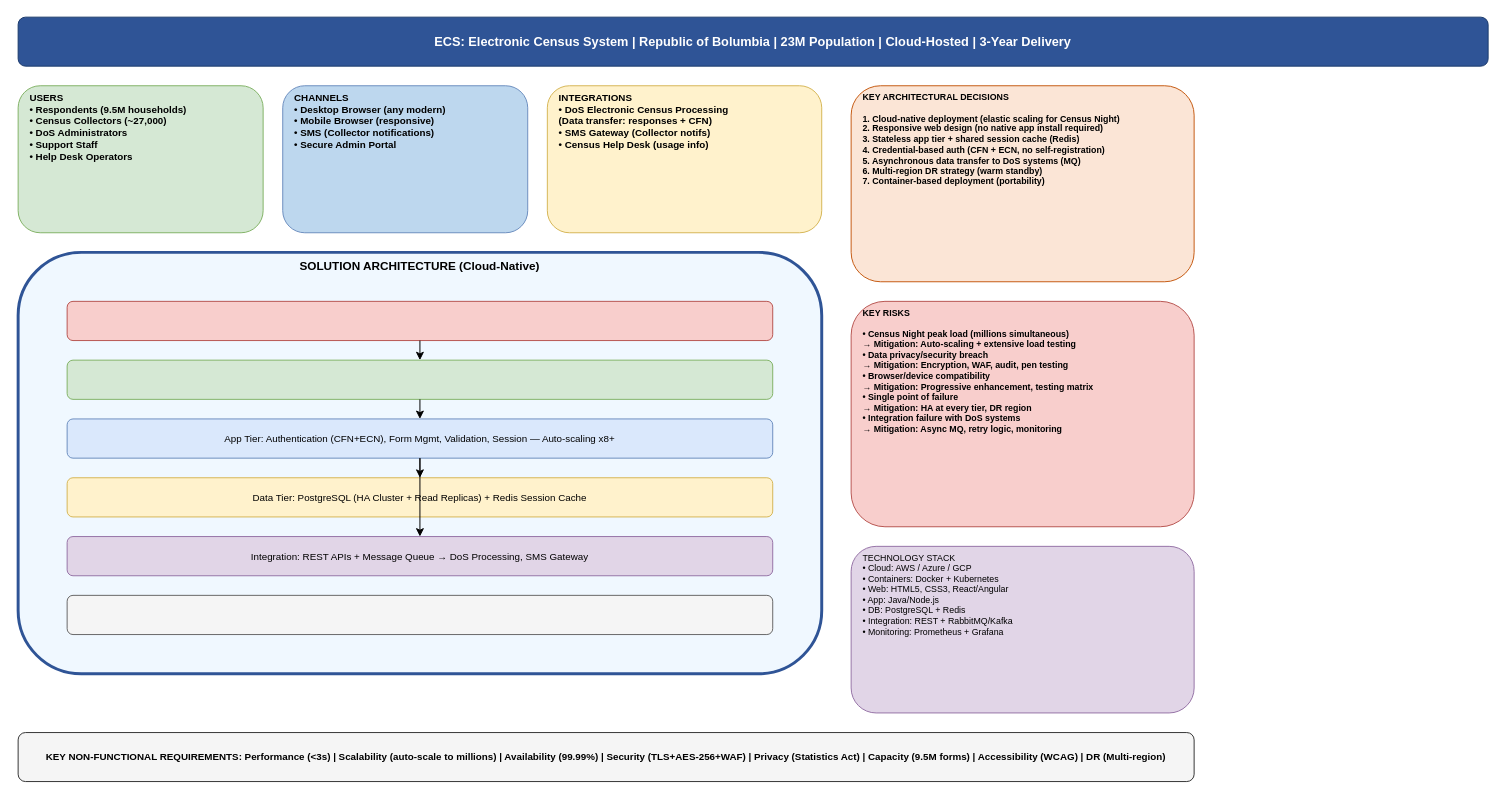
This 1505x799 diagram has some shape labels left out. Each missing label, with the centre of its shape:
CDN + WAF + DDoS Protection + Load Balancer (x2 Active-Active): (x=419, y=320)
Monitoring + Operations: APM, Logging, Alerting, Bastion Host: (x=419, y=614)
Web Tier: Responsive UI (HTML5 / CSS3 / JavaScript) — Auto-scaling x4+: (x=419, y=379)
